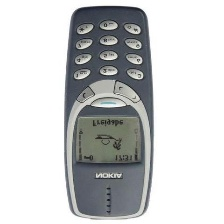phone: (62, 4, 155, 220)
